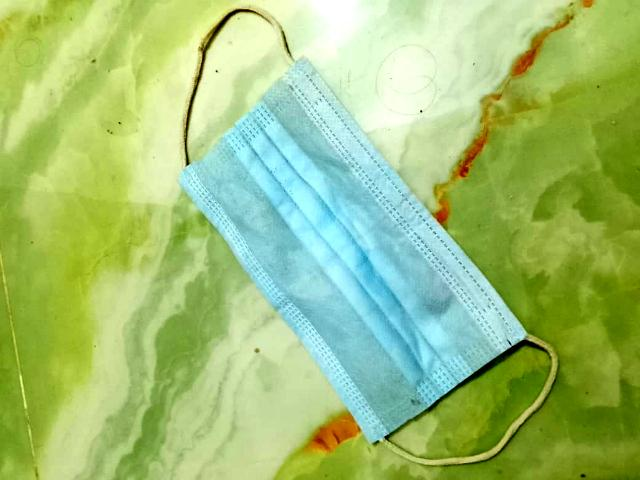mask: (142, 5, 562, 480)
